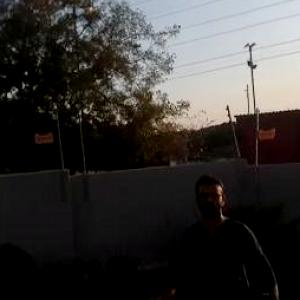follow: (156, 162, 286, 299)
